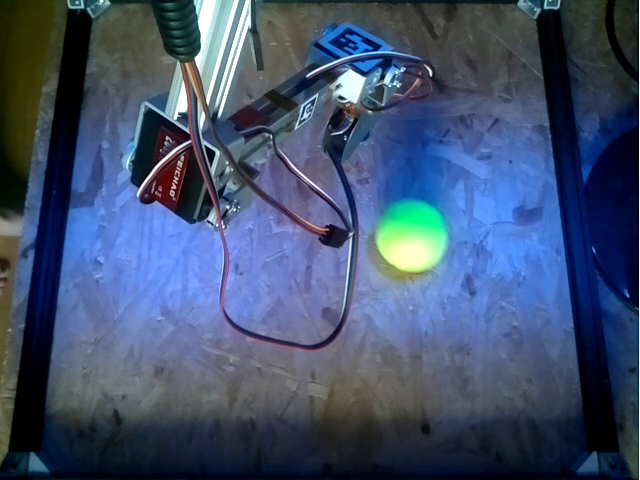tennis_ball: (375, 198, 450, 272)
